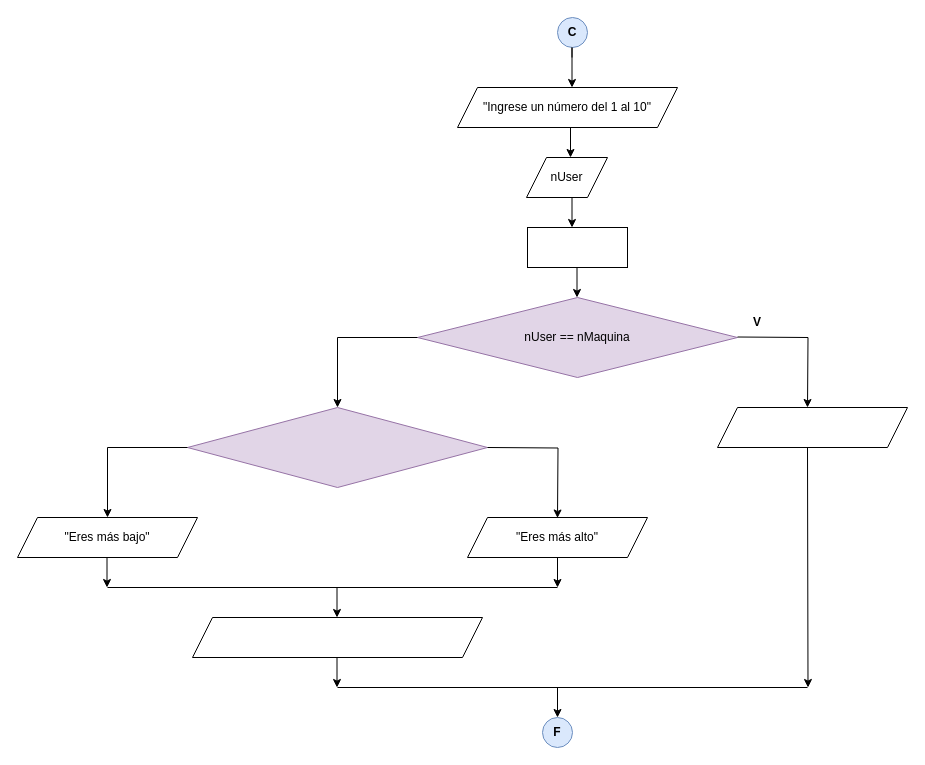
The diagram is 925 pixels wide and 765 high, and some of its shapes have lost their labels. The shapes that lost their labels are listed below. From the top down, each one's centre as x and y in pixels, then its label:
the point at 577,247: nMaquina = 6
the point at 337,447: nMaquina > nUser
the point at 812,427: "Adivinaste!!!"
the point at 337,637: "El numero de la maquina era" , nMaquina
